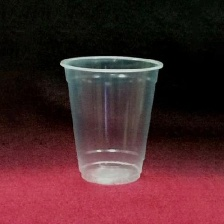glass: (54, 51, 168, 190)
